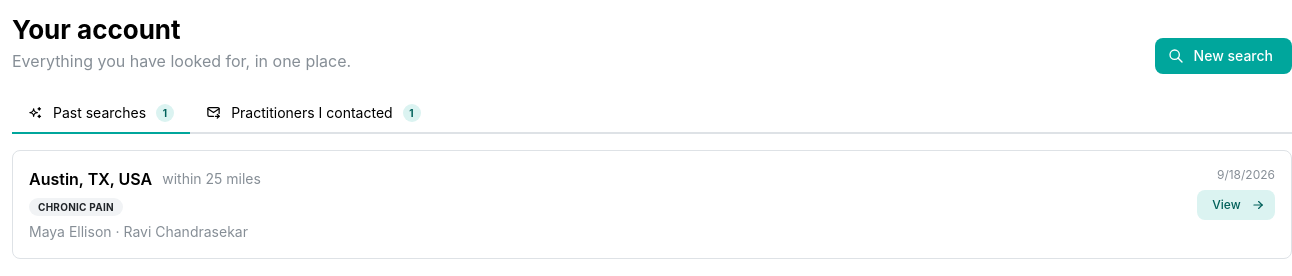
Test: <DashboardPage /> › shows enquiries and how far along they are
Click the tab "Practitioners I contacted 1" at (313,114), box [190,94,437,134]
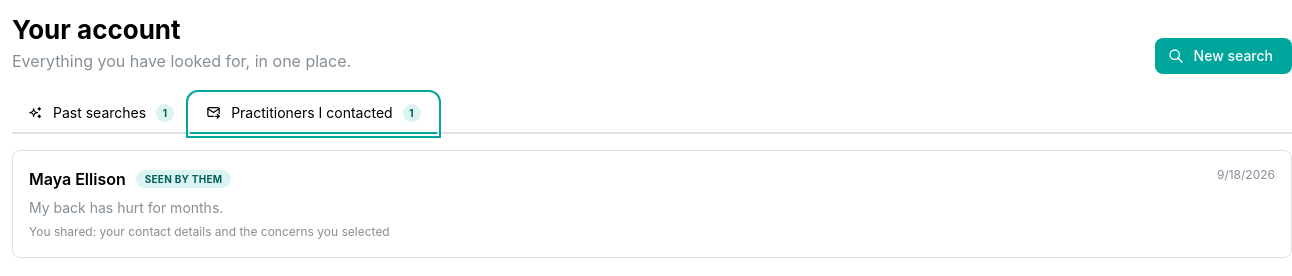
Check: the text "Maya Ellison" is shown, box [29,167,126,192]
Check: the text "Seen by them" is shown, box [145,171,222,187]
